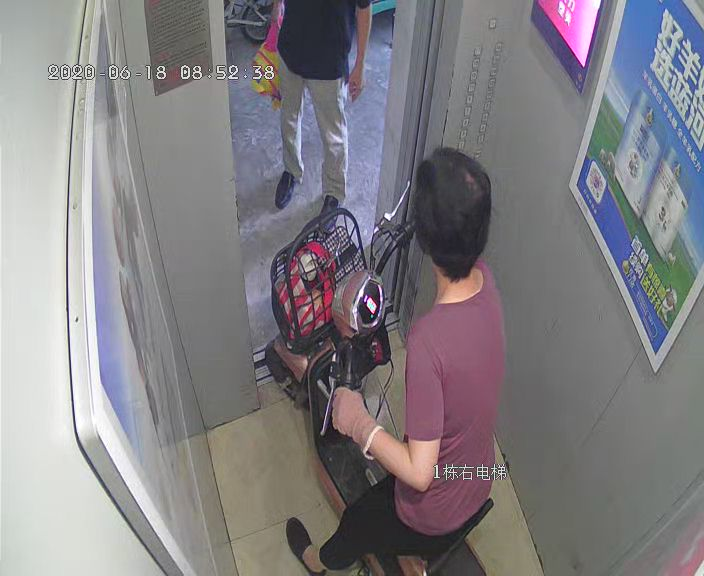Electric-bicycle: (266, 180, 484, 576)
